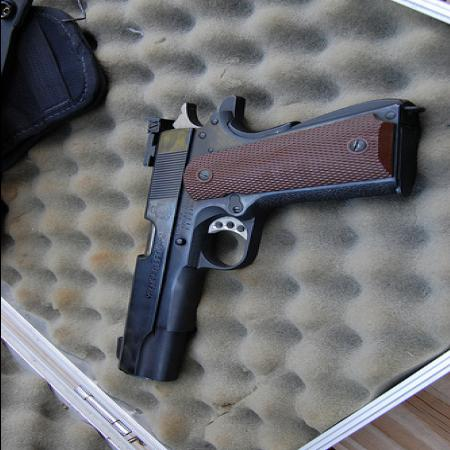Pistol: (108, 91, 420, 380)
